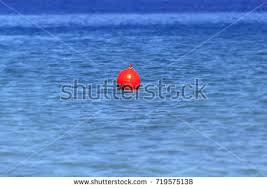buoy: (117, 70, 142, 90)
